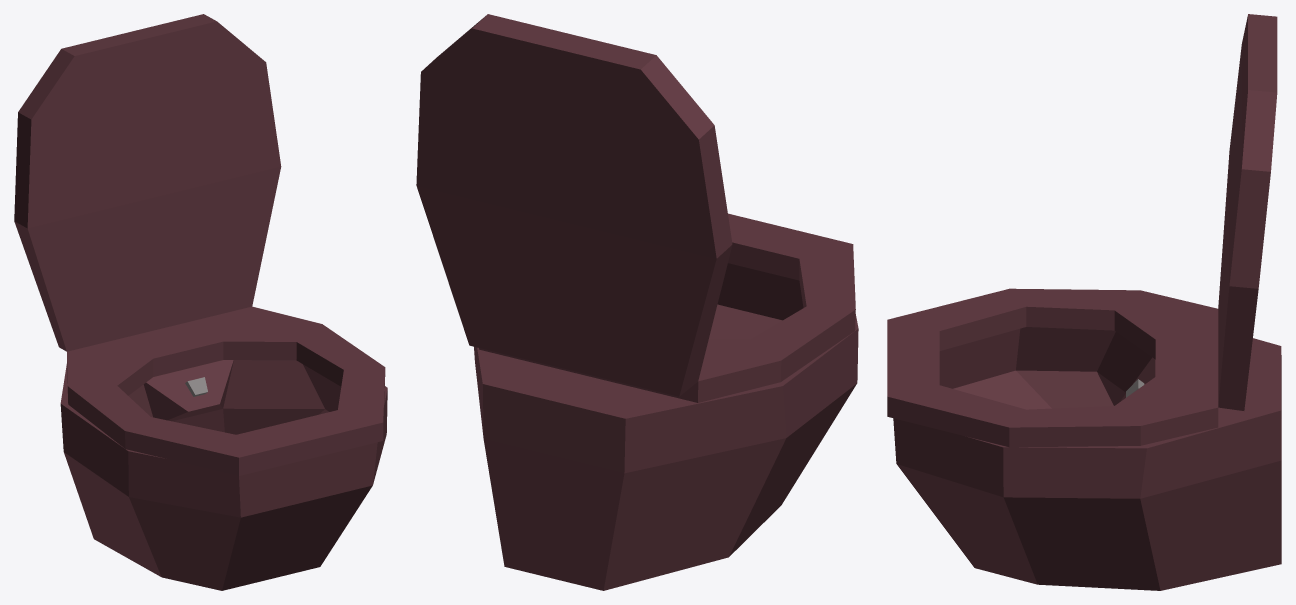
Rendered from toilet-modern.fbx.
3 renders of one model, left to right at view 1: azimuth 30°, elevation 25°; view 2: azimuth 150°, elevation 25°; view 3: azimuth 270°, elevation 25°, orthographic. The views are drawn at different scales.
Parts seen in each view (by area): view 1: toilet-modern; view 2: toilet-modern; view 3: toilet-modern.
Part boxes in pixels (x1,y1,x2,y2): toilet-modern: [14, 14, 387, 590]; toilet-modern: [416, 14, 858, 590]; toilet-modern: [887, 14, 1281, 590].
Size of the model in its own units: 0.3775 by 0.6149 by 0.4489.
